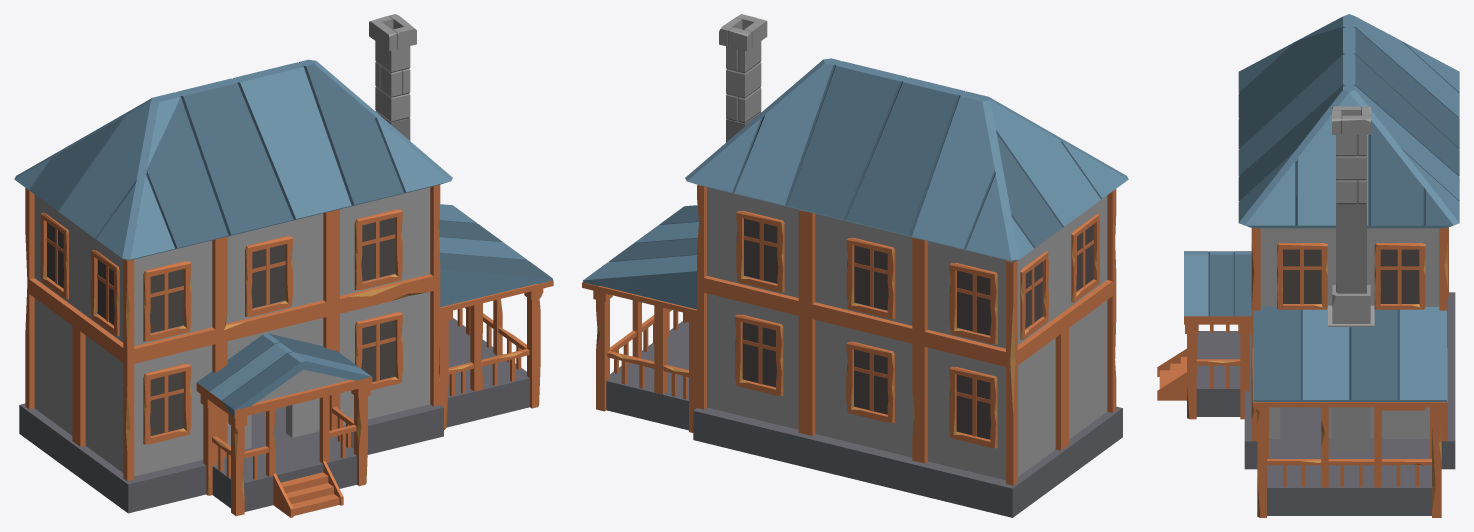
Rendered from House_2.fbx.
3 renders of one model, left to right at view 1: azimuth 30°, elevation 25°; view 2: azimuth 150°, elevation 25°; view 3: azimuth 270°, elevation 25°, orthographic. The views are drawn at different scales.
Visible parts, largest first — view 1: House_2; view 2: House_2; view 3: House_2.
Boxes of the visible parts, x1=… form: House_2: x1=14, y1=14, x2=553, y2=517; House_2: x1=582, y1=14, x2=1128, y2=517; House_2: x1=1157, y1=14, x2=1459, y2=517.
Bounding box in the file's own units: 326 × 265 × 203.
